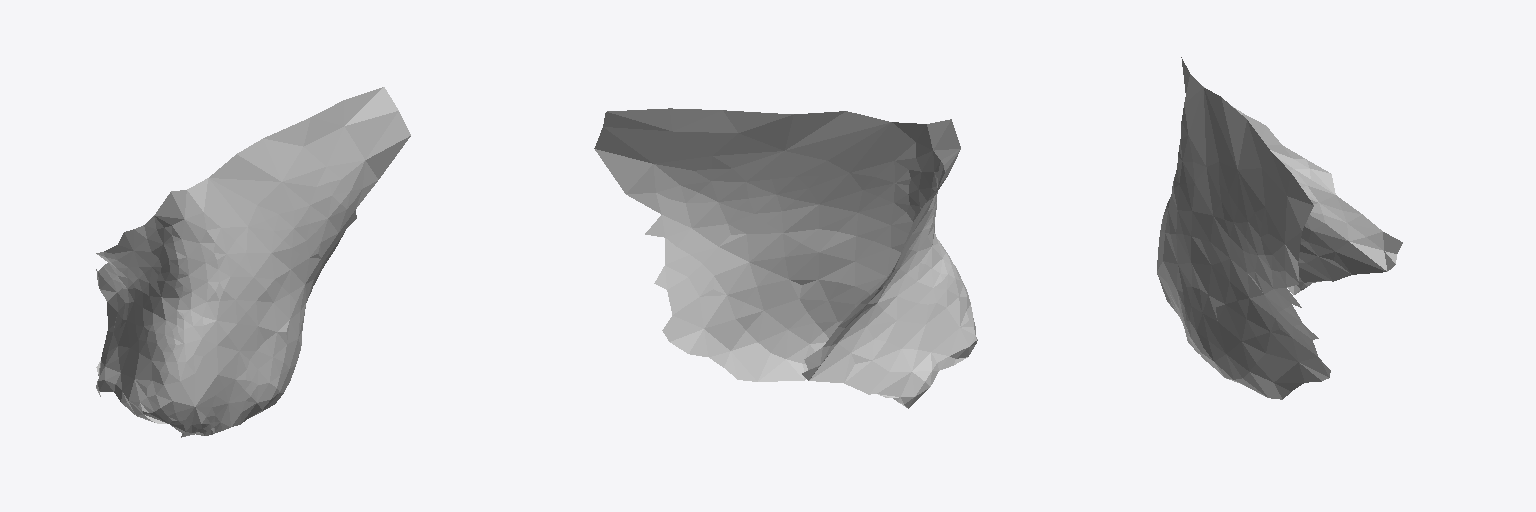
Rendered from LmaxillaFace_9_1_20.obj.
3 views of the same model, side by side, from view 1: azimuth 30°, elevation 25°; view 2: azimuth 150°, elevation 25°; view 3: azimuth 270°, elevation 25° (orthographic).
Visible parts, largest first — view 1: cleftBag_4_23_20.001; view 2: cleftBag_4_23_20.001; view 3: cleftBag_4_23_20.001.
Boxes of the visible parts, x1,y1,x2,y2 form: cleftBag_4_23_20.001: [96, 87, 410, 437]; cleftBag_4_23_20.001: [594, 108, 977, 408]; cleftBag_4_23_20.001: [1157, 57, 1402, 399].
Bounding box in the file's own units: 1.6 × 1.26 × 1.04.